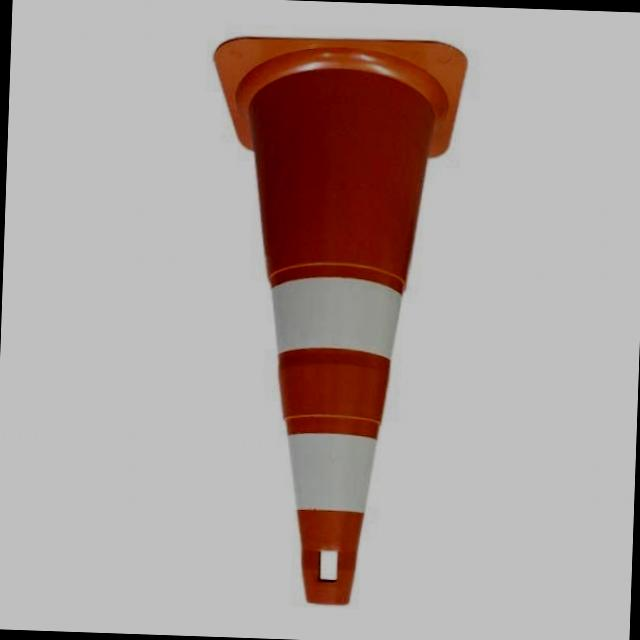cone: (177, 32, 475, 622)
